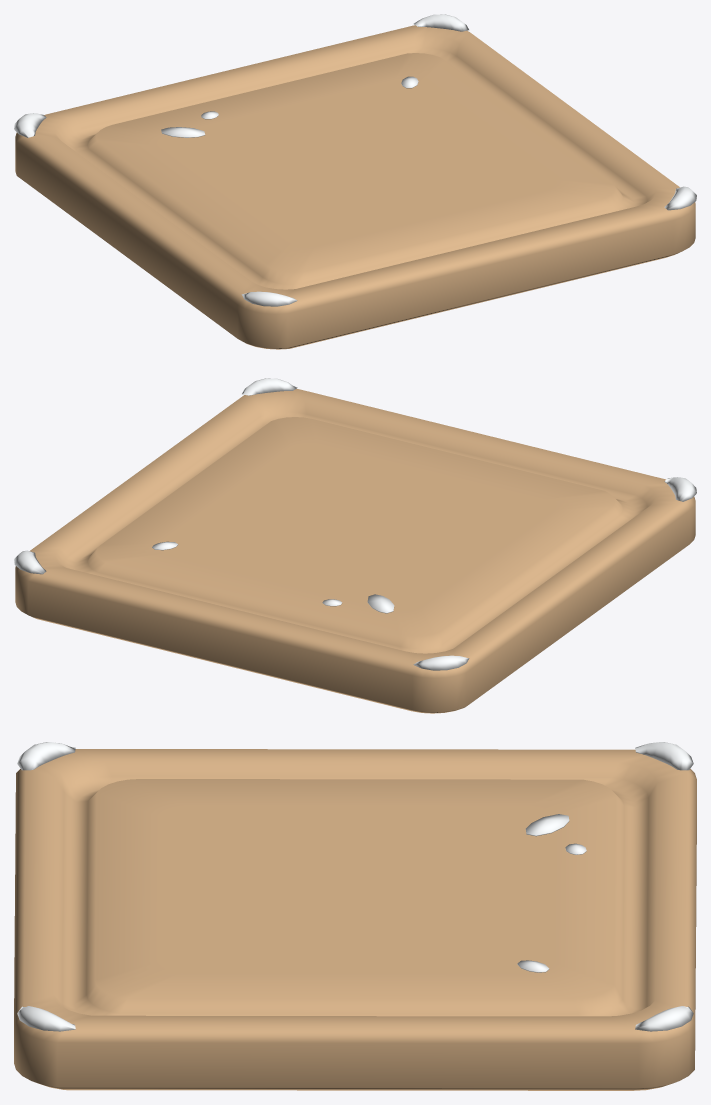
File: Plate_Concrete.glb
3 views of the same model, one above another, from view 1: azimuth 30°, elevation 25°; view 2: azimuth 150°, elevation 25°; view 3: azimuth 270°, elevation 25° (orthographic). The views are drawn at different scales.
Parts seen in each view (by area): view 1: Plate_Concrete_Slab, Plate_Concrete_Snow; view 2: Plate_Concrete_Slab, Plate_Concrete_Snow; view 3: Plate_Concrete_Slab, Plate_Concrete_Snow.
Part boxes in pixels (left/top/right/bottom): Plate_Concrete_Slab: left=15, top=25, right=695, bottom=349; Plate_Concrete_Snow: left=14, top=14, right=696, bottom=306; Plate_Concrete_Slab: left=15, top=389, right=695, bottom=713; Plate_Concrete_Snow: left=14, top=378, right=696, bottom=670; Plate_Concrete_Slab: left=14, top=749, right=696, bottom=1090; Plate_Concrete_Snow: left=17, top=742, right=693, bottom=1031.
Bounding box in the file's own units: 0.96 × 0.1136 × 0.96.
